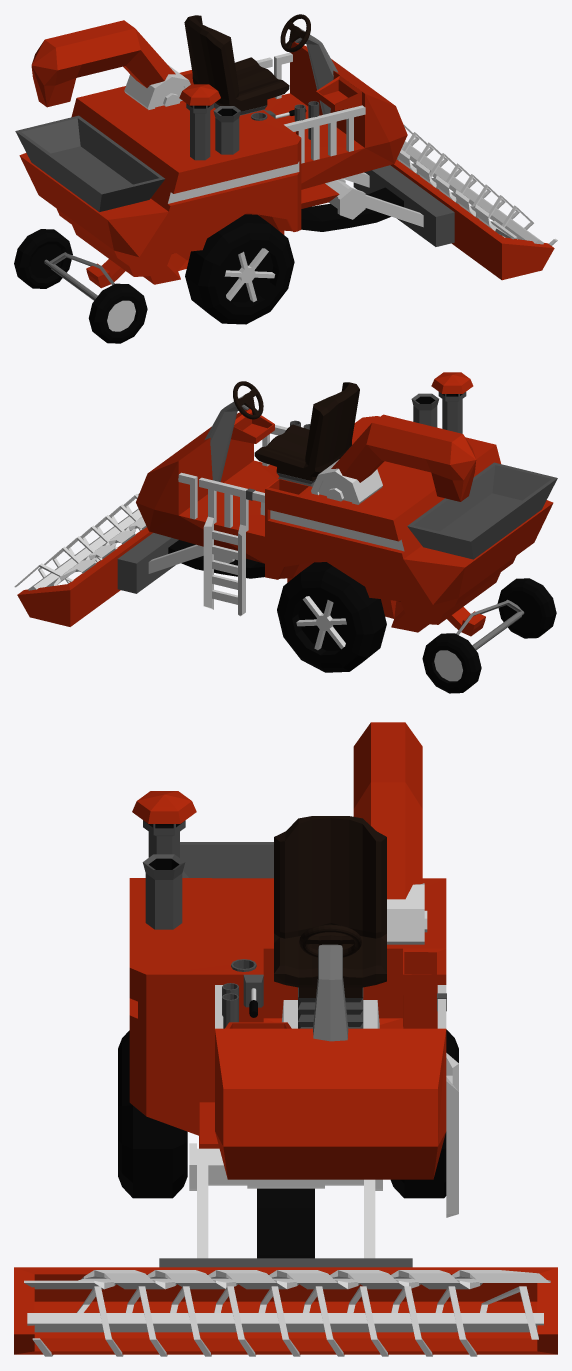
File: Lawnmover_Main_2.fbx
3 renders of one model, top to bottom at view 1: azimuth 30°, elevation 25°; view 2: azimuth 150°, elevation 25°; view 3: azimuth 270°, elevation 25°, orthographic. The views are drawn at different scales.
Parts seen in each view (by area): view 1: Base, grass cutter, wheels, case, crane, chair.001, back wheel.001, back wheel, cutter arm, roof pipe, hinge, front blade holder (+6 smaller); view 2: Base, wheels, case, grass cutter, crane, chair.001, back wheel, back wheel.001, hinge, roof pipe, stiring pole.001, front blade (+6 smaller); view 3: Base, grass cutter, chair.001, crane, front blade holder, back blade, wheels, front blade, cutter arm, case, stiring pole.001, pipe (+3 smaller).
Part boxes in pixels (x1=…): Base: x1=19, y1=41, x2=407, y2=288; grass cutter: x1=301, y1=159, x2=554, y2=280; wheels: x1=185, y1=214, x2=294, y2=324; case: x1=15, y1=115, x2=164, y2=211; crane: x1=31, y1=20, x2=175, y2=107; chair.001: x1=184, y1=15, x2=289, y2=111; back wheel.001: x1=88, y1=283, x2=147, y2=343; back wheel: x1=14, y1=229, x2=72, y2=288; cutter arm: x1=325, y1=172, x2=423, y2=227; roof pipe: x1=179, y1=84, x2=220, y2=160; hinge: x1=124, y1=64, x2=190, y2=109; front blade holder: x1=401, y1=141, x2=543, y2=244; Base: x1=136, y1=408, x2=553, y2=636; wheels: x1=277, y1=562, x2=386, y2=672; case: x1=407, y1=462, x2=557, y2=559; grass cutter: x1=17, y1=527, x2=264, y2=626; crane: x1=331, y1=414, x2=476, y2=501; chair.001: x1=254, y1=382, x2=359, y2=481; back wheel: x1=422, y1=633, x2=481, y2=693; back wheel.001: x1=497, y1=578, x2=556, y2=638; hinge: x1=311, y1=459, x2=382, y2=504; roof pipe: x1=431, y1=372, x2=473, y2=433; stiring pole.001: x1=204, y1=395, x2=249, y2=481; front blade: x1=14, y1=493, x2=141, y2=587; Base: x1=129, y1=878, x2=458, y2=1217; grass cutter: x1=14, y1=1188, x2=557, y2=1354; chair.001: x1=274, y1=816, x2=386, y2=997; crane: x1=353, y1=722, x2=422, y2=899; front blade holder: x1=27, y1=1313, x2=543, y2=1332; back blade: x1=24, y1=1270, x2=550, y2=1289; wheels: x1=118, y1=1029, x2=458, y2=1198; front blade: x1=32, y1=1286, x2=538, y2=1356; cutter arm: x1=189, y1=1143, x2=382, y2=1258; case: x1=180, y1=842, x2=273, y2=878; stiring pole.001: x1=313, y1=944, x2=348, y2=1041; pipe: x1=142, y1=854, x2=185, y2=929.
Size of the model in its own units: 7291 by 4146 by 5296.
